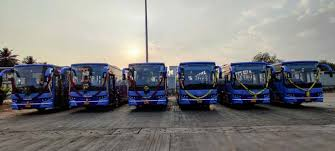Chigari: (68, 64, 124, 112), (6, 64, 63, 110), (278, 60, 332, 106), (226, 62, 277, 106), (176, 63, 222, 106), (126, 64, 170, 107)
